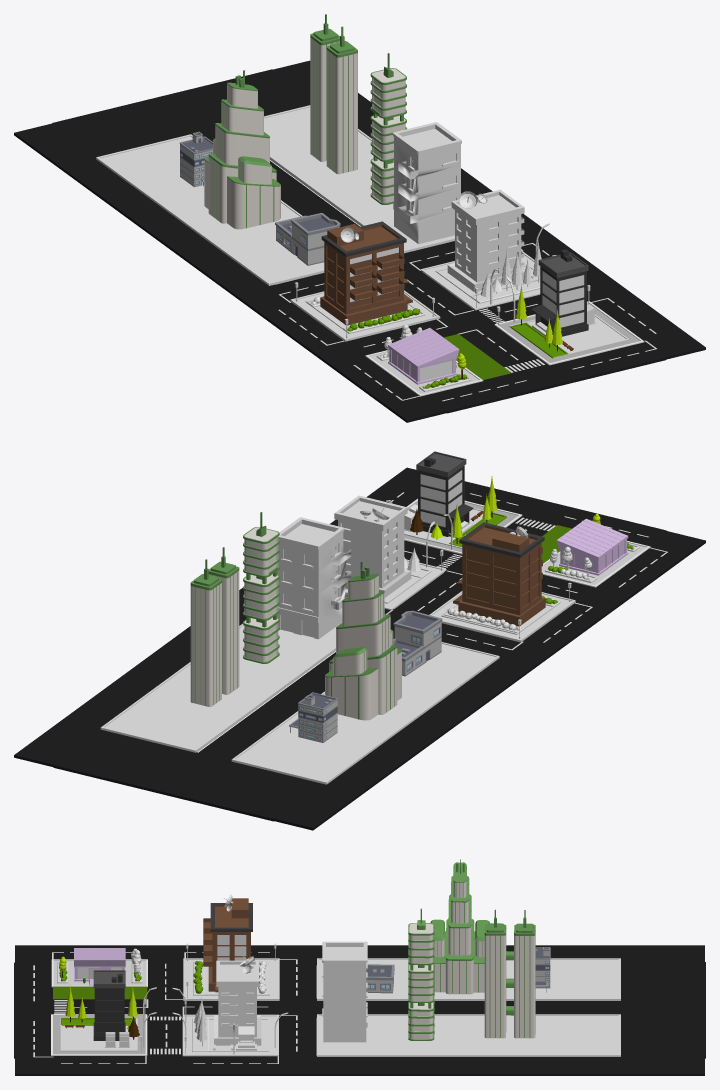
File: test_city.glb
3 views of the same model, one above another, from view 1: azimuth 30°, elevation 25°; view 2: azimuth 150°, elevation 25°; view 3: azimuth 270°, elevation 25° (orthographic). The views are drawn at different scales.
Parts seen in each view (by area): view 1: ROAD, Floor.001, Project, House, large_buildingC, b_skyscaper02, House_1, Experince, Medias, Bio, Fun_Project, Floor_2 (+8 smaller); view 2: ROAD, Floor.001, Project, large_buildingC, House, b_skyscaper02, House_1, Experince, Medias, Bio, Fun_Project, large_buildingG (+5 smaller); view 3: ROAD, Floor.001, b_skyscaper02, Project, large_buildingC, House_1, Experince, House, Medias, Bio, Floor_1, Floor_2 (+8 smaller).
Boxes of the visible parts, box(x1,y1,x2,y2) form: ROAD: box(14, 60, 705, 422); Floor.001: box(96, 105, 454, 285); Project: box(204, 70, 280, 229); House: box(320, 221, 412, 325); large_buildingC: box(393, 122, 461, 244); b_skyscaper02: box(310, 14, 357, 174); House_1: box(447, 189, 526, 292); Experince: box(370, 53, 406, 204); Medias: box(531, 249, 588, 336); Bio: box(388, 328, 459, 384); Fun_Project: box(275, 213, 340, 265); Floor_2: box(494, 301, 644, 365); ROAD: box(14, 467, 705, 830); Floor.001: box(100, 622, 499, 784); Project: box(325, 561, 401, 720); large_buildingC: box(277, 517, 351, 639); House: box(453, 522, 545, 626); b_skyscaper02: box(190, 547, 239, 706); House_1: box(334, 495, 411, 597); Experince: box(243, 512, 279, 663); Medias: box(416, 451, 473, 537); Bio: box(556, 518, 628, 575); Fun_Project: box(393, 610, 442, 676); large_buildingG: box(289, 692, 337, 742); ROAD: box(14, 945, 705, 1075); Floor.001: box(317, 958, 620, 1056); b_skyscaper02: box(484, 909, 535, 1038); Project: box(430, 859, 489, 994); large_buildingC: box(322, 941, 367, 1042); House_1: box(214, 960, 261, 1050); Experince: box(408, 908, 434, 1040); House: box(203, 898, 254, 992); Medias: box(93, 970, 125, 1040); Bio: box(74, 948, 125, 985); Floor_1: box(182, 1014, 278, 1056); Floor_2: box(51, 1014, 147, 1055).
Size of the model in its own units: 56.95 by 27 by 130.
